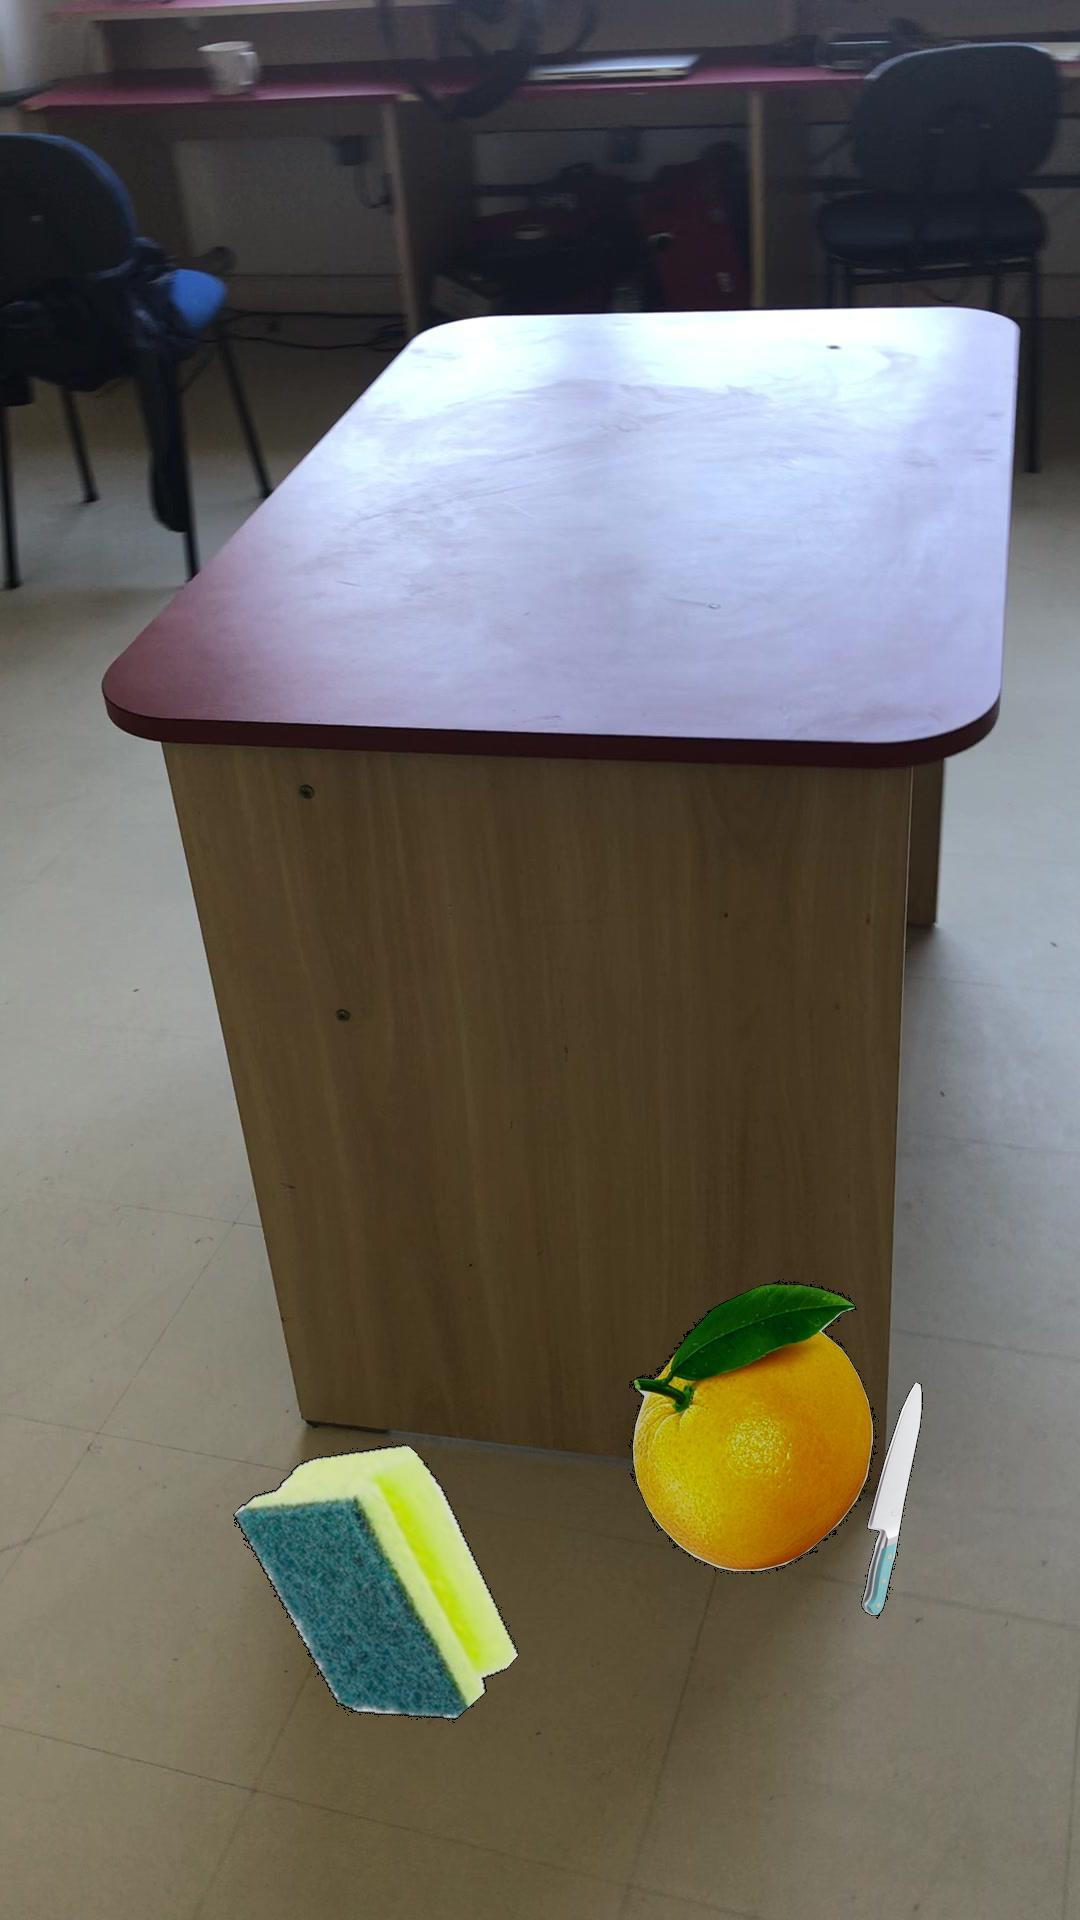knife: (860, 1381, 922, 1615)
orange: (629, 1279, 874, 1572)
sponge: (232, 1443, 517, 1718)
